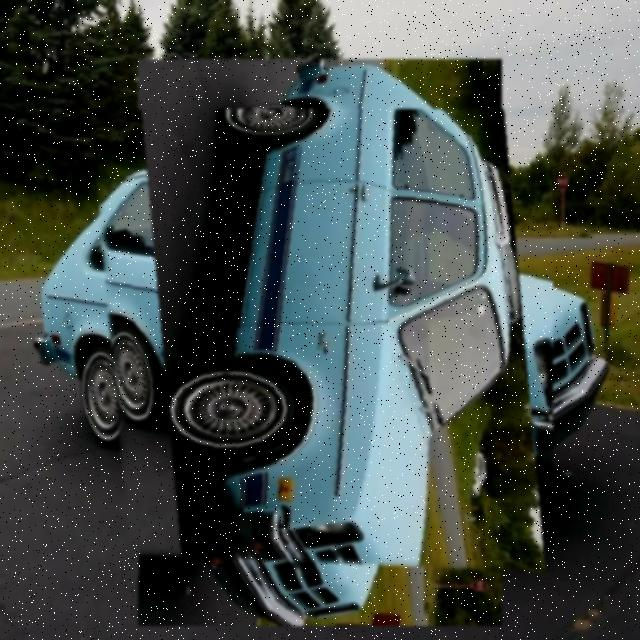car: (88, 110, 554, 576)
